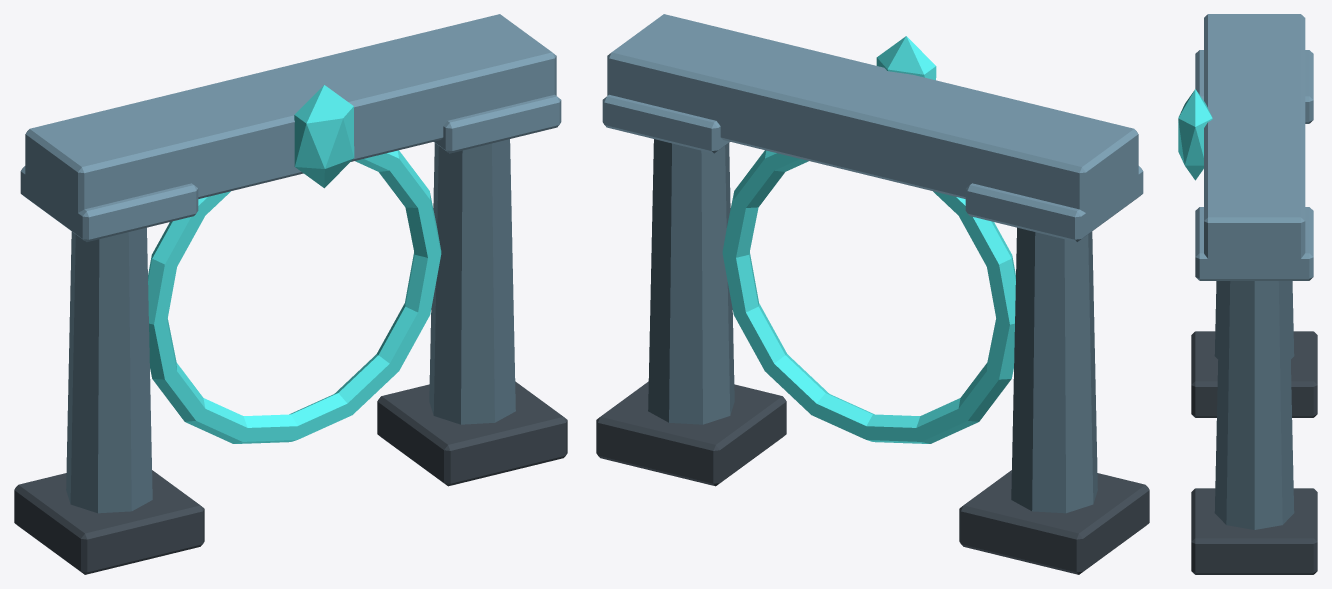
Rendered from SH10_L10_Portal.fbx.
3 renders of one model, left to right at view 1: azimuth 30°, elevation 25°; view 2: azimuth 150°, elevation 25°; view 3: azimuth 270°, elevation 25°, orthographic. The views are drawn at different scales.
Parts seen in each view (by area): view 1: SH10_L10_Portal; view 2: SH10_L10_Portal; view 3: SH10_L10_Portal.
Part boxes in pixels (left/top/right/bottom): SH10_L10_Portal: left=14, top=14, right=567, bottom=574; SH10_L10_Portal: left=596, top=14, right=1149, bottom=574; SH10_L10_Portal: left=1178, top=14, right=1317, bottom=574.
Bounding box in the file's own units: 295 × 250 × 82.71.
